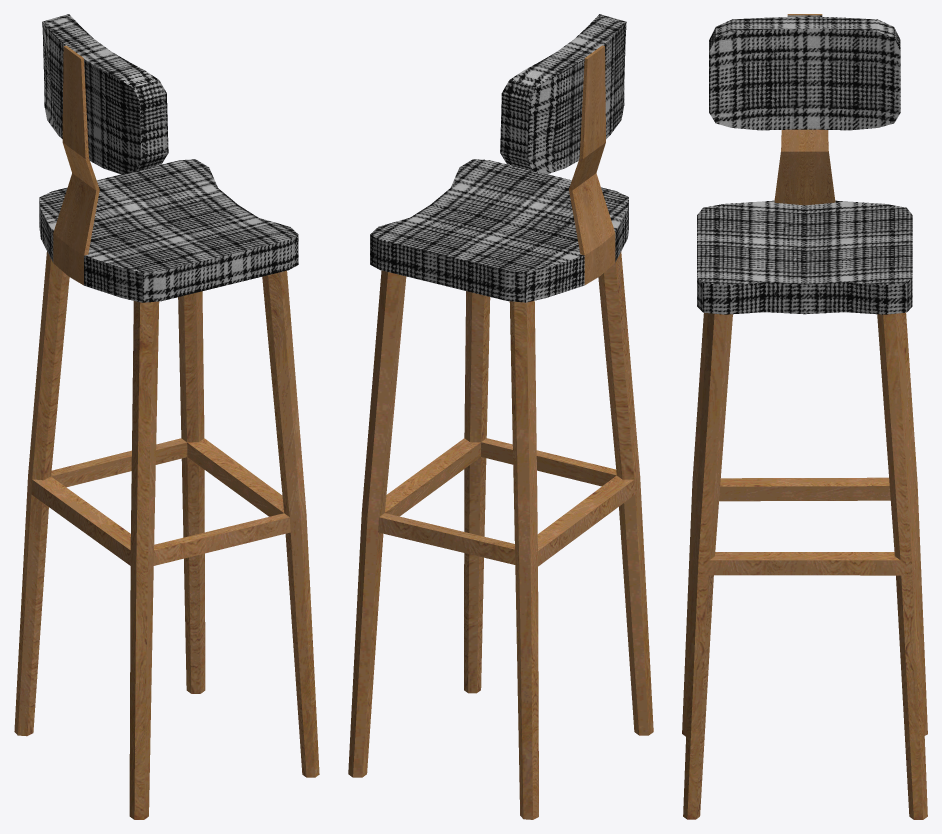
The model's file is Silla .fbx.
3 renders of one model, left to right at view 1: azimuth 30°, elevation 25°; view 2: azimuth 150°, elevation 25°; view 3: azimuth 270°, elevation 25°, orthographic.
Visible parts, largest first — view 1: _Silla Alta.003; view 2: _Silla Alta.003; view 3: _Silla Alta.003.
Part boxes in pixels (x1,y1,x2,y2): _Silla Alta.003: (14,14,319,819); _Silla Alta.003: (348,14,653,819); _Silla Alta.003: (682,14,927,819).
Bounding box in the file's own units: 0.8409 × 3.03 × 0.9447.
